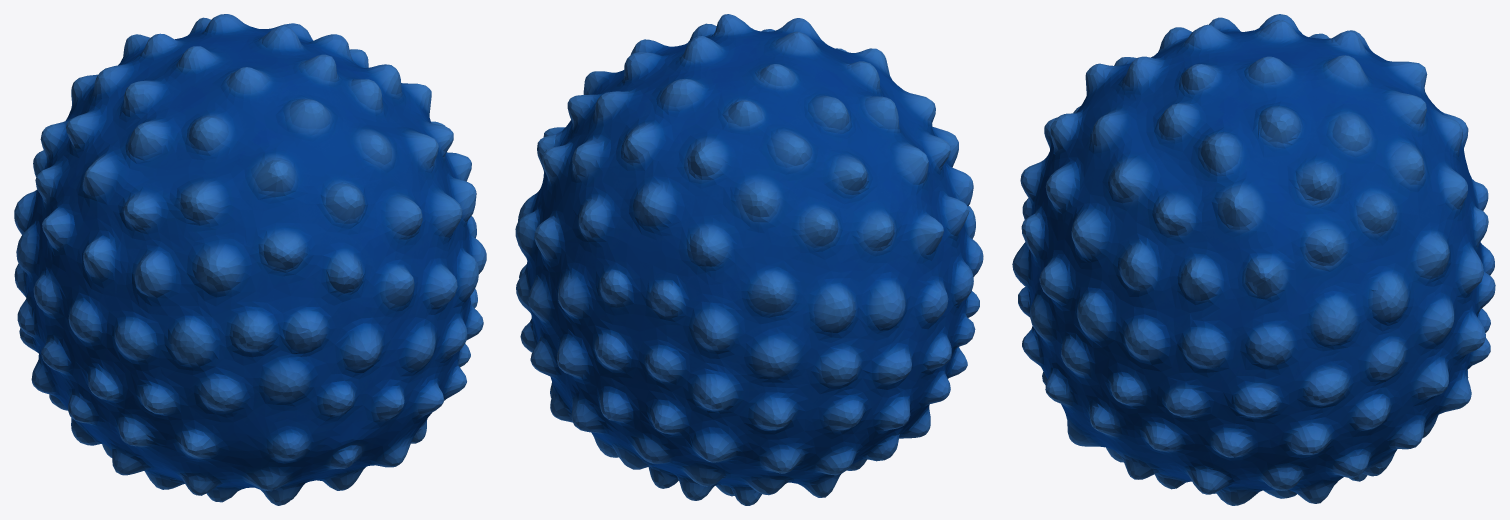
The model's file is toy_9.glb.
3 renders of one model, left to right at view 1: azimuth 30°, elevation 25°; view 2: azimuth 150°, elevation 25°; view 3: azimuth 270°, elevation 25°, orthographic. The views are drawn at different scales.
Parts seen in each view (by area): view 1: tripo_node_5529299f-dc12-498c-8715-6d26d4034397; view 2: tripo_node_5529299f-dc12-498c-8715-6d26d4034397; view 3: tripo_node_5529299f-dc12-498c-8715-6d26d4034397.
Boxes of the visible parts, box(x1,y1,x2,y2) form: tripo_node_5529299f-dc12-498c-8715-6d26d4034397: box(14, 14, 486, 505); tripo_node_5529299f-dc12-498c-8715-6d26d4034397: box(515, 14, 983, 505); tripo_node_5529299f-dc12-498c-8715-6d26d4034397: box(1012, 14, 1495, 505).
Size of the model in its own units: 0.9876 by 1 by 0.9953.
1 material, 1 textured.
